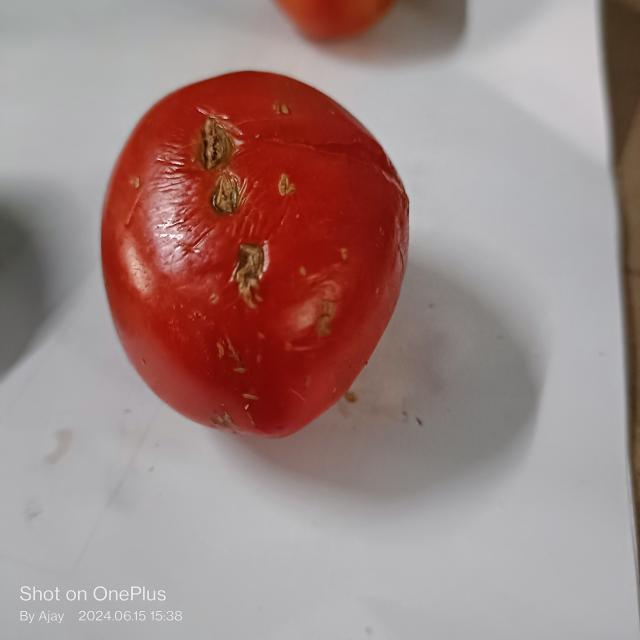Botrytis: (194, 119, 265, 297)
